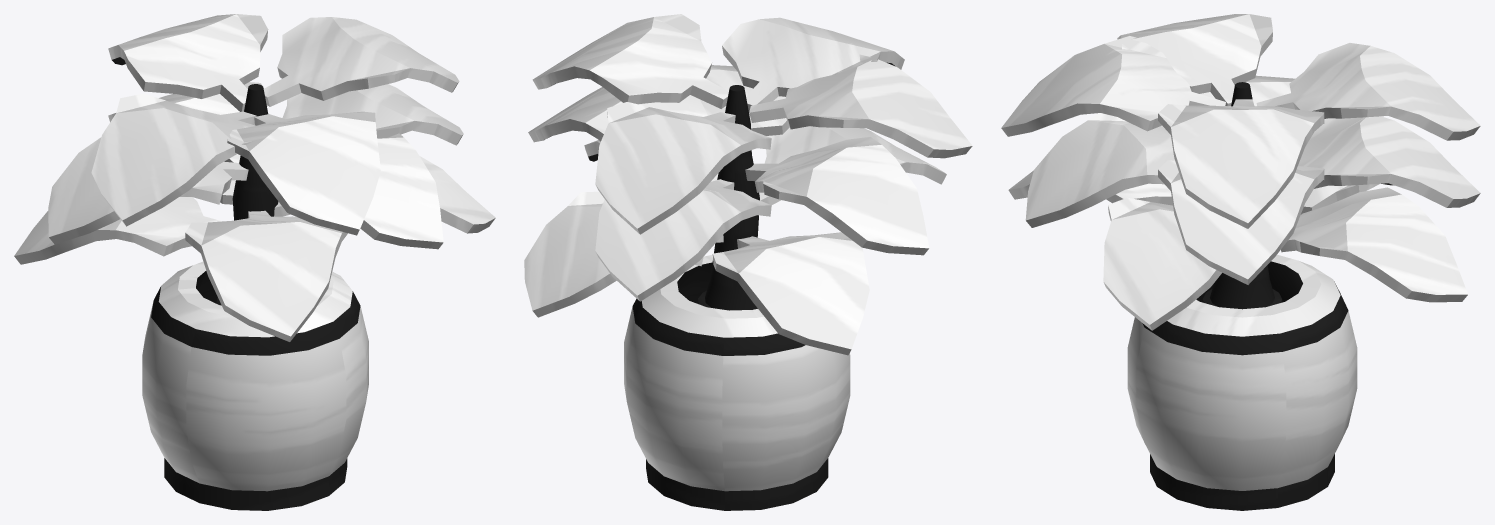
The model's file is plant.fbx.
3 views of the same model, side by side, from view 1: azimuth 30°, elevation 25°; view 2: azimuth 150°, elevation 25°; view 3: azimuth 270°, elevation 25° (orthographic).
Visible parts, largest first — view 1: Cylinder; view 2: Cylinder; view 3: Cylinder.
Part boxes in pixels (x1=…): Cylinder: x1=14, y1=14, x2=495, y2=510; Cylinder: x1=524, y1=14, x2=972, y2=510; Cylinder: x1=1001, y1=14, x2=1480, y2=510.
Bounding box in the file's own units: 524 × 504 × 533.
